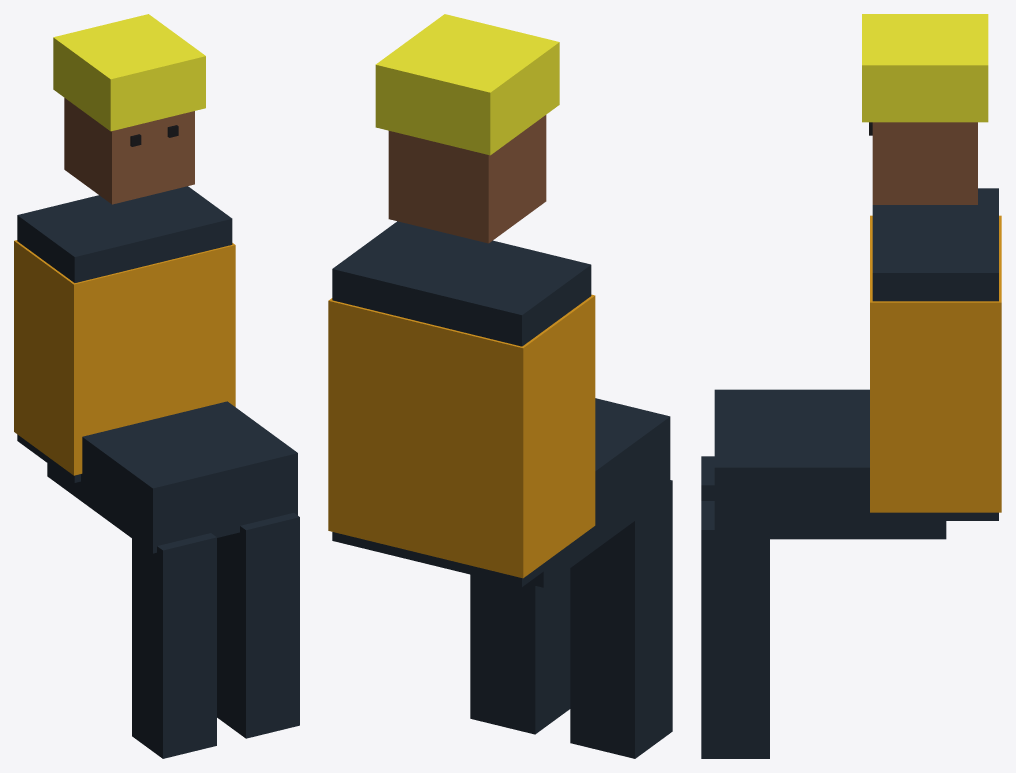
Rendered from character_mta.glb.
3 renders of one model, left to right at view 1: azimuth 30°, elevation 25°; view 2: azimuth 150°, elevation 25°; view 3: azimuth 270°, elevation 25°, orthographic. The views are drawn at different scales.
Visible parts, largest first — view 1: Character_MTA, HiVisVest, Torso, HardHat, Head; view 2: HiVisVest, Character_MTA, Torso, HardHat, Head; view 3: Character_MTA, HiVisVest, HardHat, Torso, Head.
Boxes of the visible parts, bbox=[...] form: Character_MTA: bbox=[47, 401, 299, 758]; HiVisVest: bbox=[14, 240, 235, 475]; Torso: bbox=[17, 186, 232, 482]; HardHat: bbox=[53, 14, 205, 131]; Head: bbox=[64, 98, 194, 204]; HiVisVest: bbox=[328, 294, 595, 578]; Character_MTA: bbox=[470, 398, 672, 758]; Torso: bbox=[332, 221, 591, 586]; HardHat: bbox=[375, 14, 559, 155]; Head: bbox=[388, 115, 546, 243]; Character_MTA: bbox=[701, 389, 946, 758]; HiVisVest: bbox=[870, 215, 1001, 512]; HardHat: bbox=[862, 14, 988, 122]; Torso: bbox=[872, 188, 998, 520]; Head: bbox=[872, 122, 977, 204].
Size of the model in its own units: 0.39 by 1.43 by 0.57.
